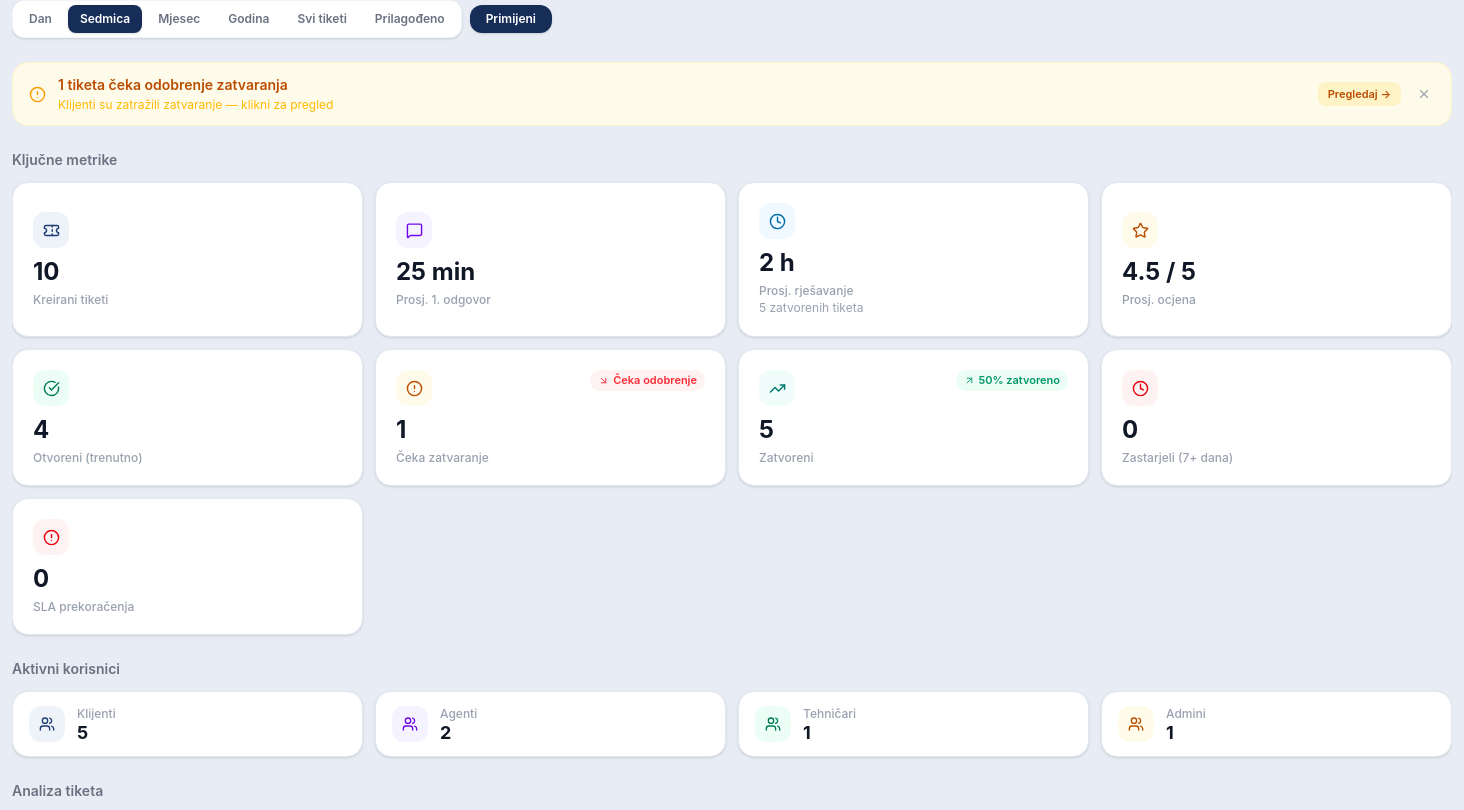
Test case: Globalni vremenski filter (PB-45 / US-72) › nevalidan custom raspon prikazuje grešku na Primijeni i blokira Generiši izvještaj
Click the button "Prilagođeno" at (410, 19), box [363,5,457,33]
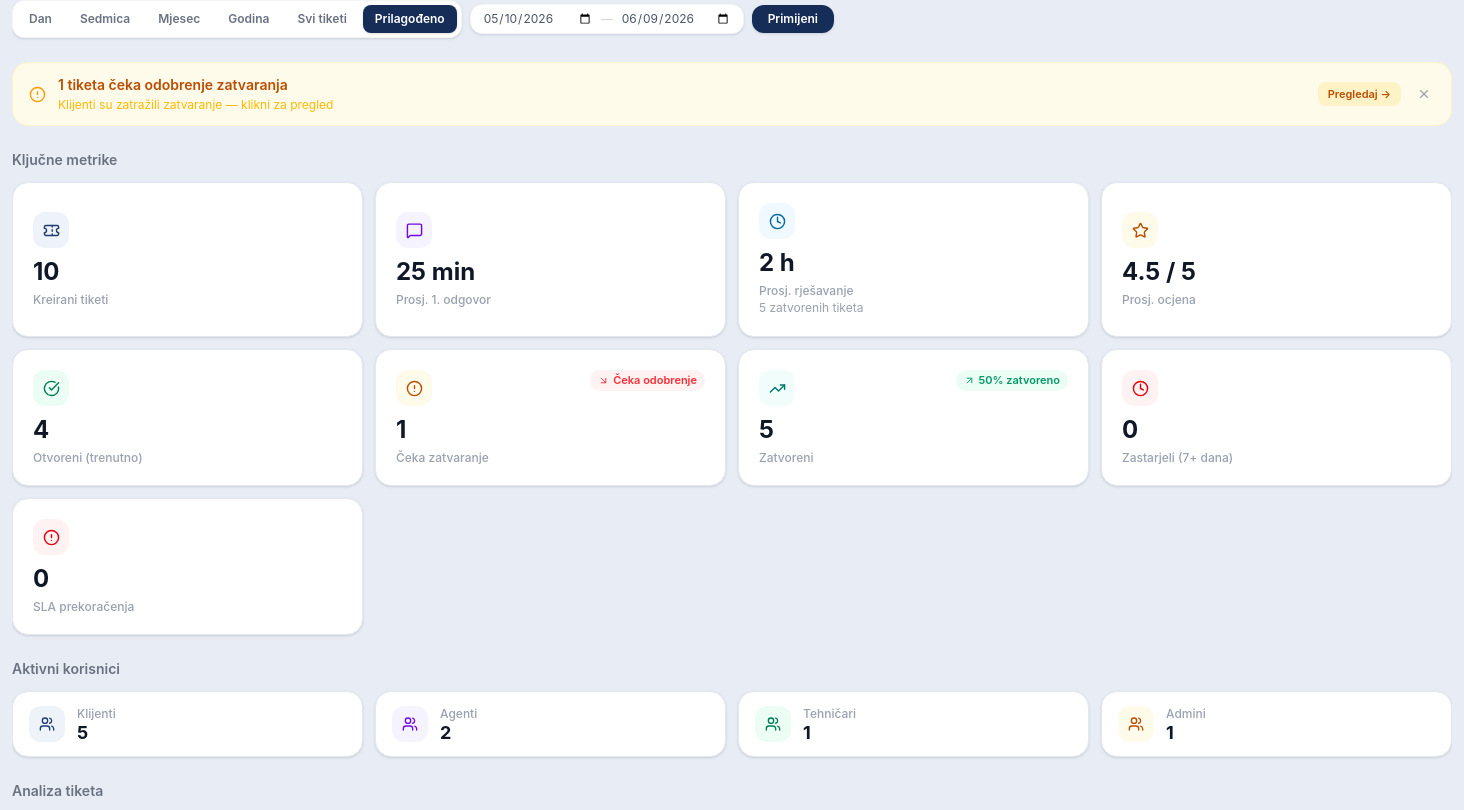
Check: the number of date fields is 2
Type "2026-12-31" into the 1st date field at (538, 19), box [483,11,593,27]
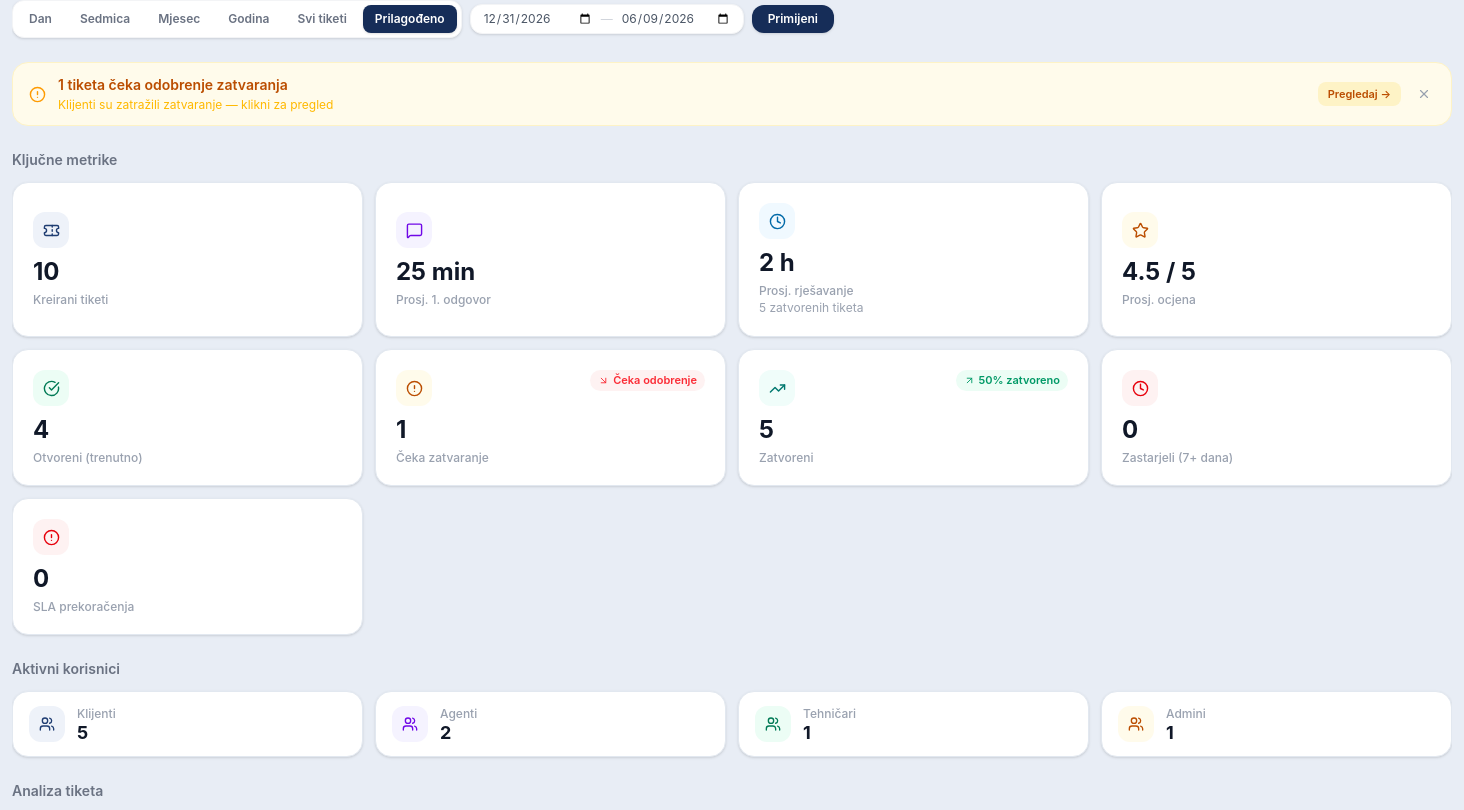
Type "2026-01-01" into the 2nd date field at (676, 19), box [621,11,731,27]
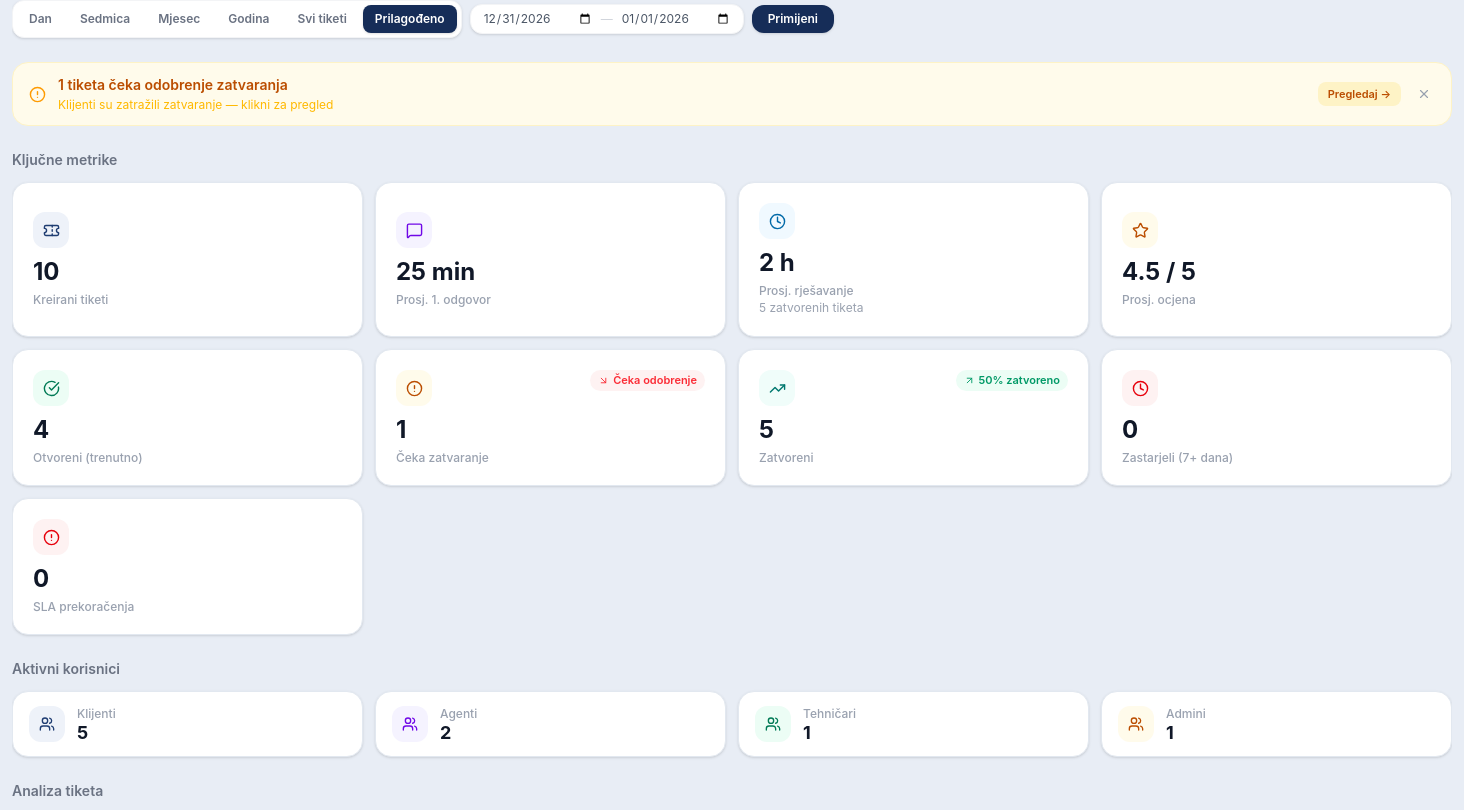
Click the button "Primijeni" at (793, 19), box [752,5,834,33]
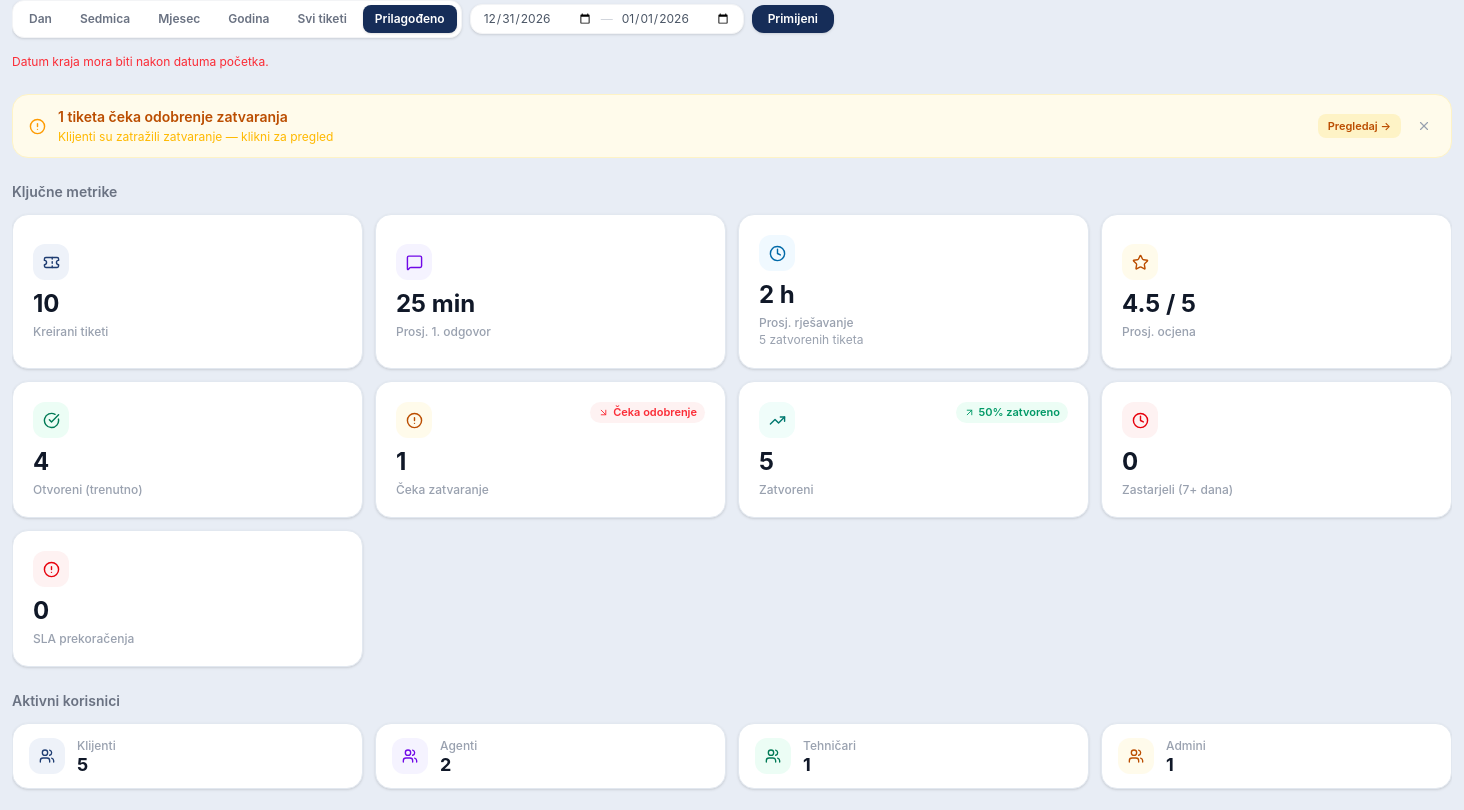
Check: the text "Datum kraja mora biti nakon datuma početka." is shown, box [12,54,269,69]
